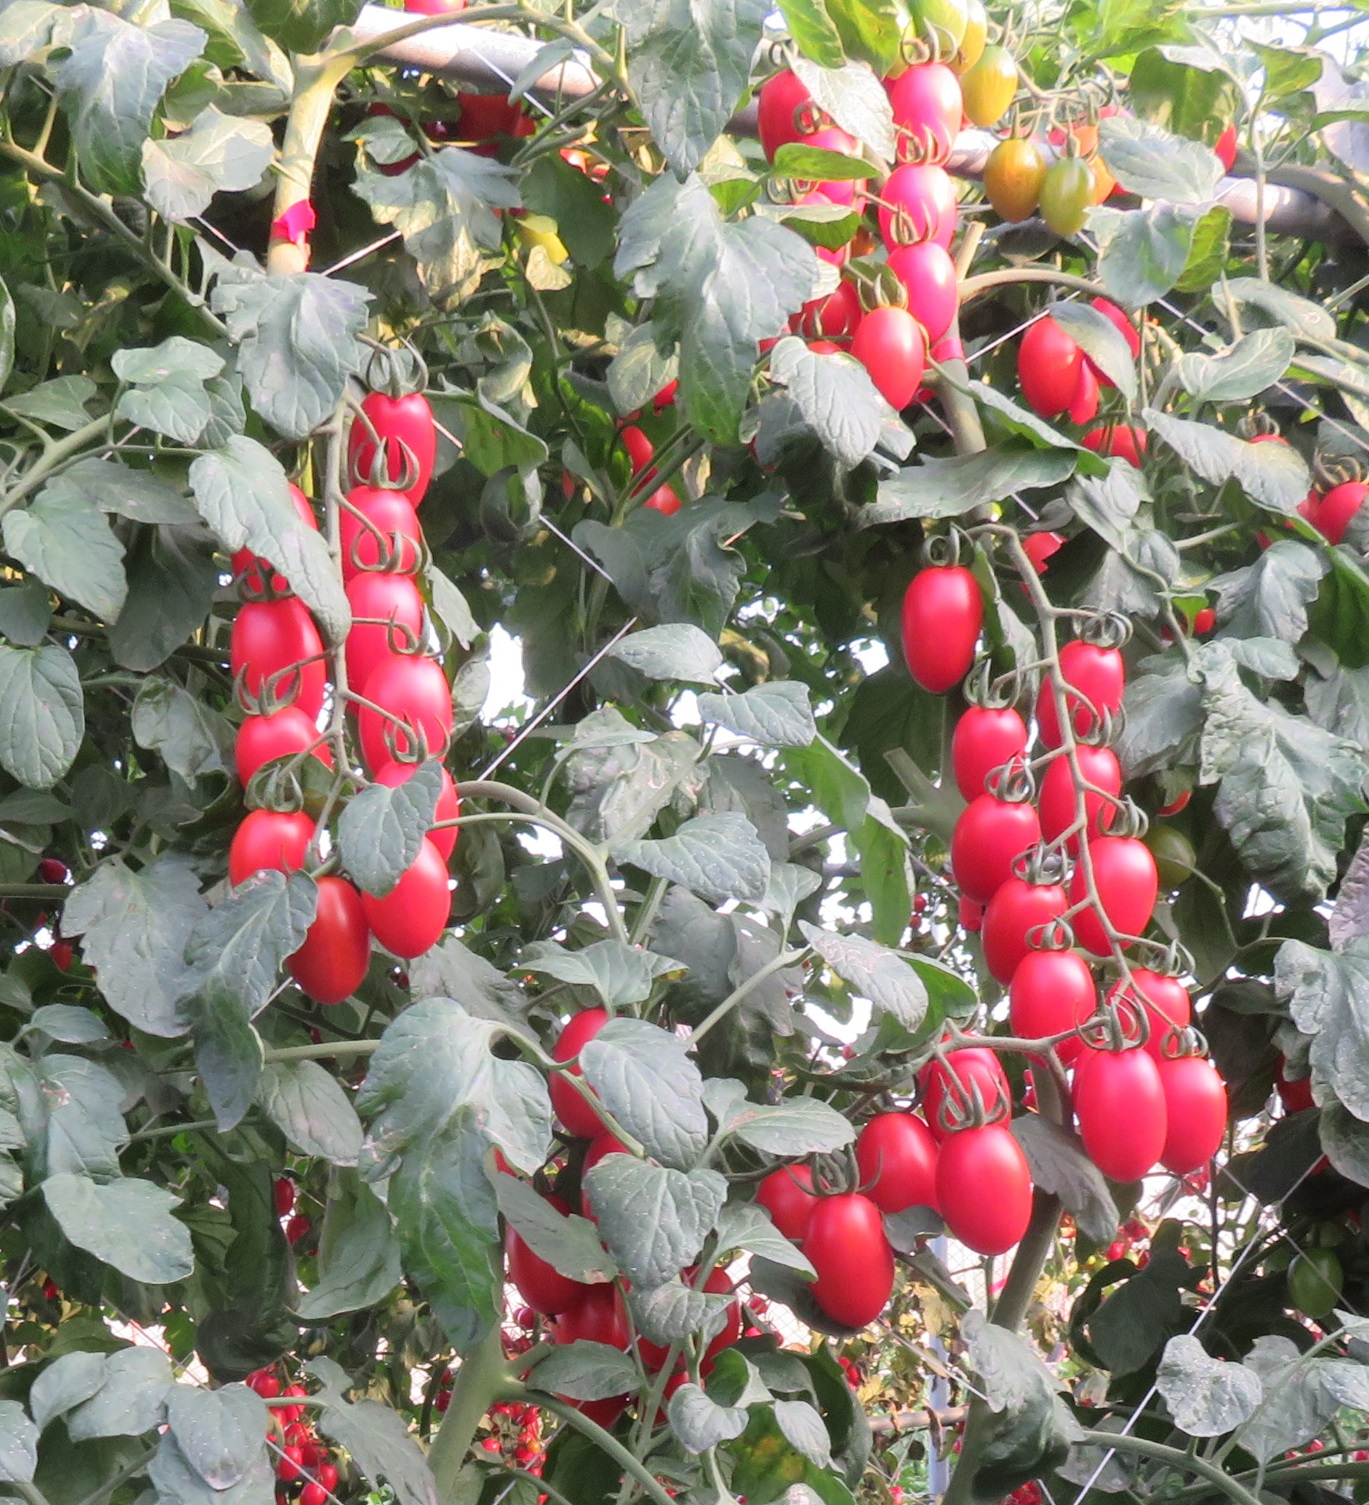green: (966, 38, 1029, 138), (1039, 157, 1095, 239), (981, 138, 1037, 218), (911, 1, 973, 60)
orange: (1071, 122, 1121, 214)
red: (938, 1118, 1031, 1257), (223, 596, 327, 721), (1067, 827, 1164, 958), (900, 562, 991, 700), (1079, 1038, 1164, 1180), (801, 1194, 890, 1327), (846, 1110, 945, 1227), (359, 652, 452, 772), (913, 1030, 1015, 1135), (546, 1008, 625, 1138), (351, 383, 445, 489), (851, 296, 928, 421), (376, 843, 451, 971), (501, 1200, 584, 1314), (884, 45, 968, 155), (1164, 1047, 1237, 1171), (336, 569, 437, 657), (1007, 944, 1100, 1038), (945, 783, 1042, 872), (981, 857, 1078, 947), (229, 707, 337, 787), (1042, 739, 1132, 832), (336, 480, 437, 561), (229, 802, 316, 895), (875, 152, 966, 239), (953, 701, 1036, 788), (1046, 638, 1129, 725), (304, 870, 357, 1006), (1015, 311, 1078, 420), (757, 1168, 841, 1249), (892, 227, 961, 319), (1088, 288, 1149, 393), (691, 1268, 744, 1379), (1313, 475, 1369, 549), (1016, 532, 1070, 600), (287, 1218, 313, 1260), (277, 1443, 304, 1483), (270, 1177, 295, 1219), (282, 1386, 304, 1418), (254, 1371, 277, 1399), (302, 1479, 323, 1505), (484, 1438, 498, 1455)
